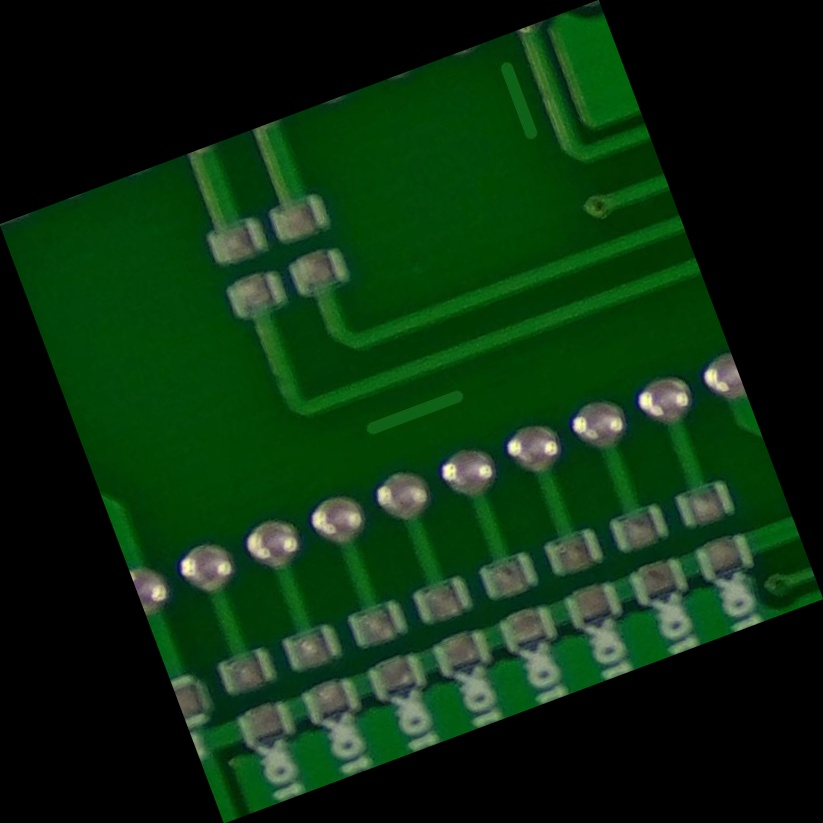spurious_copper: (344, 360, 480, 463)
